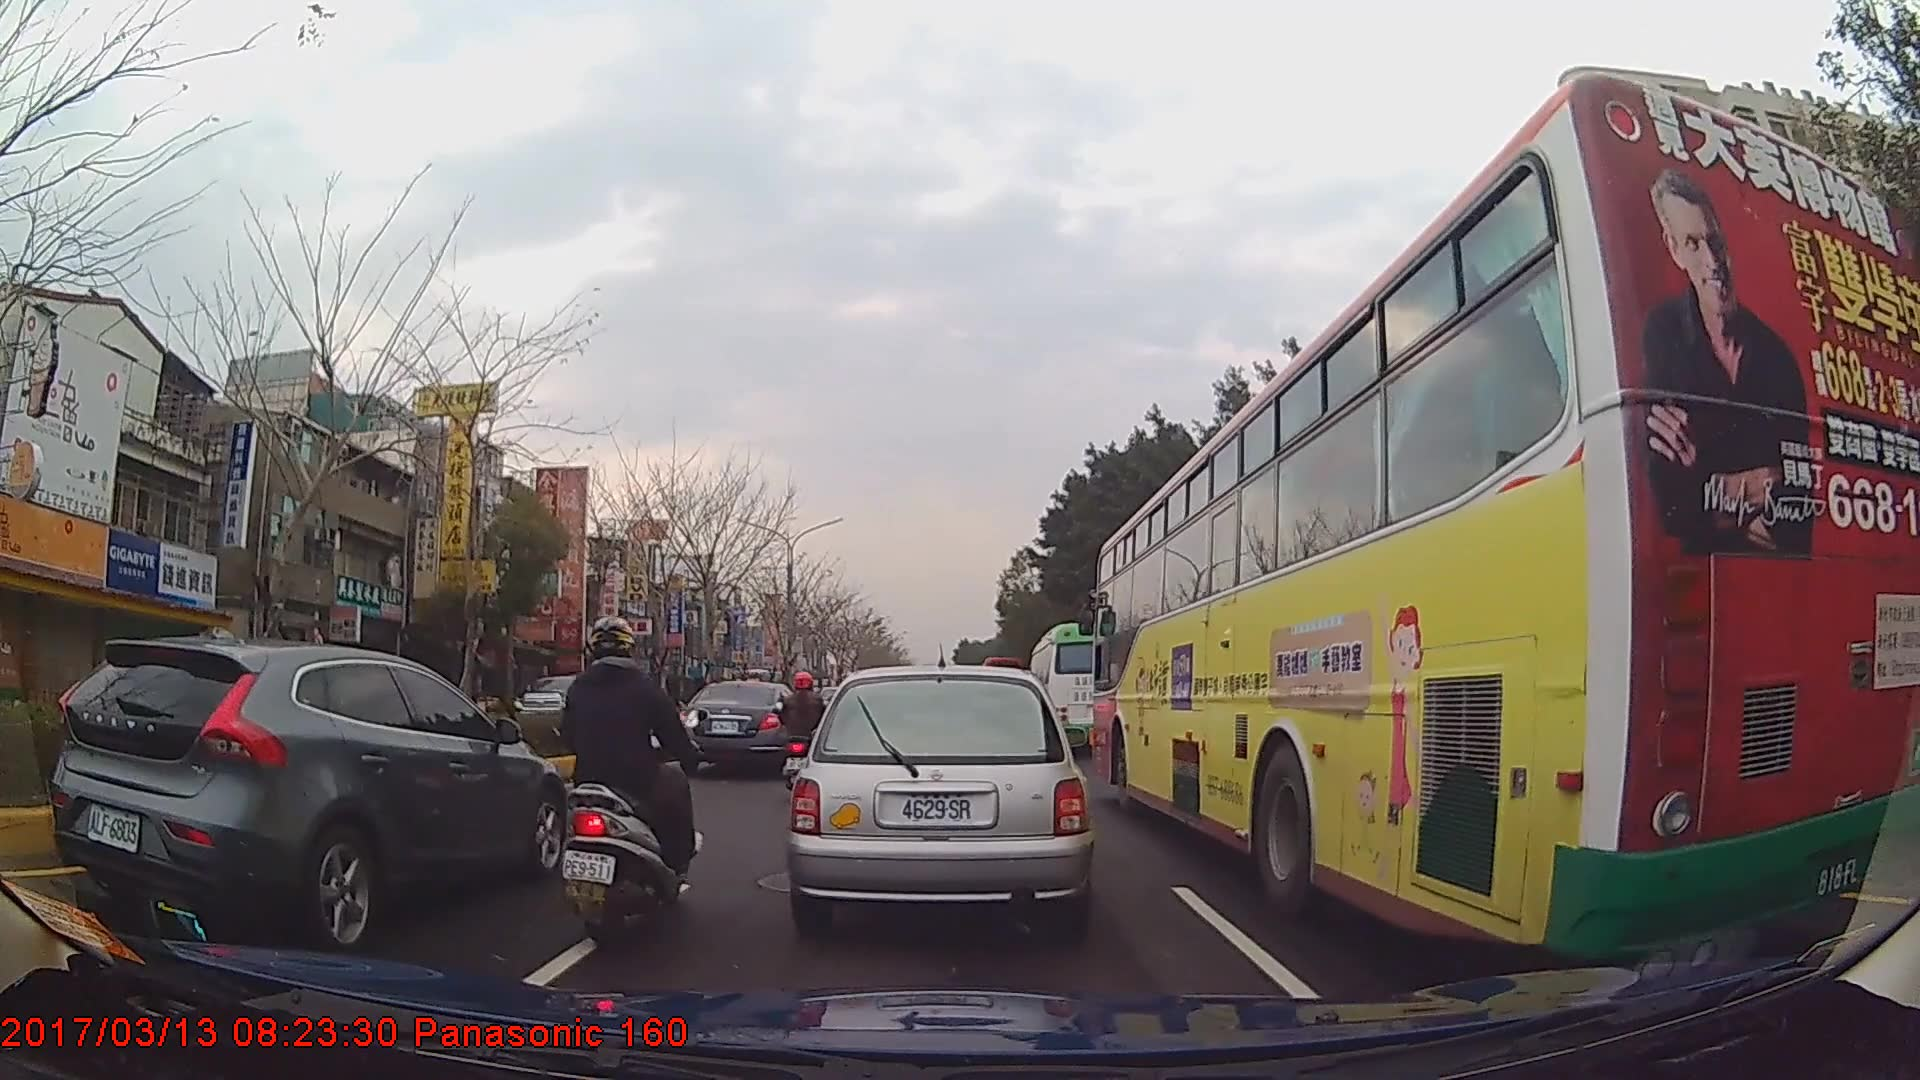rider: (555, 614, 696, 939), (776, 671, 833, 790)
vehicle: (1090, 69, 1920, 962), (52, 635, 567, 952), (786, 657, 1098, 935), (1029, 619, 1136, 757), (680, 678, 807, 775), (512, 669, 617, 727)
